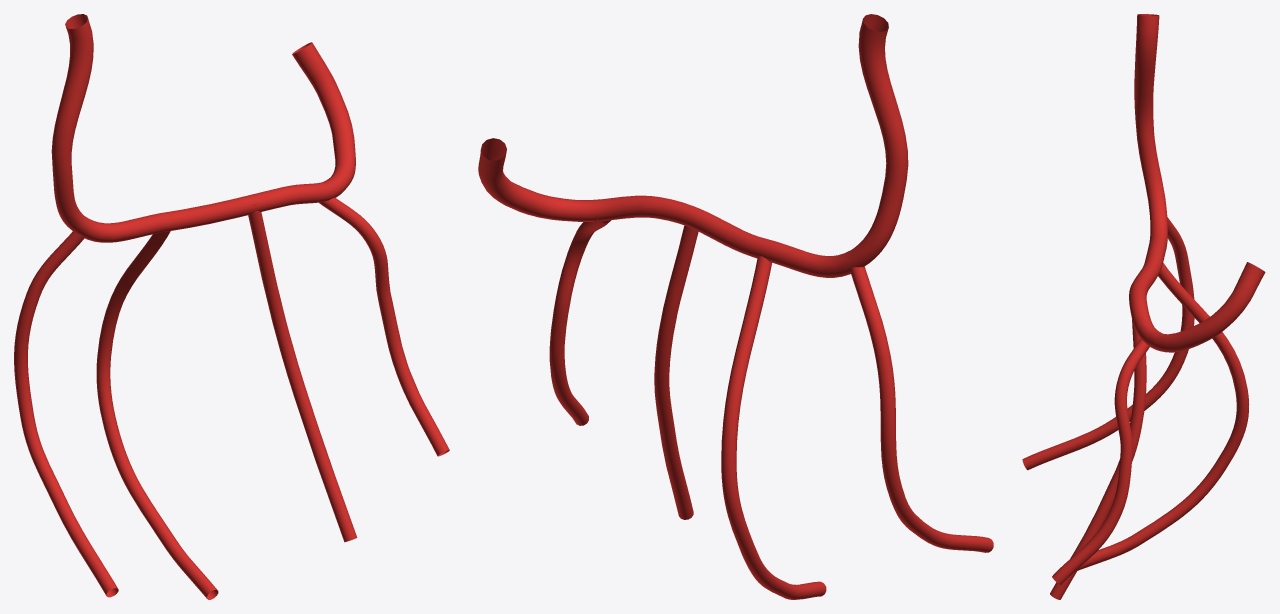
The model's file is circulatorio-deep-palmar-arch-l.glb.
3 views of the same model, side by side, from view 1: azimuth 30°, elevation 25°; view 2: azimuth 150°, elevation 25°; view 3: azimuth 270°, elevation 25° (orthographic). The views are drawn at different scales.
Parts seen in each view (by area): view 1: Palmar metacarpal arteries.l, Deep palmar arch.l; view 2: Palmar metacarpal arteries.l, Deep palmar arch.l; view 3: Palmar metacarpal arteries.l, Deep palmar arch.l.
Part boxes in pixels (left/top/right/bottom): Palmar metacarpal arteries.l: left=14, top=197, right=449, bottom=599; Deep palmar arch.l: left=51, top=14, right=355, bottom=242; Palmar metacarpal arteries.l: left=549, top=215, right=993, bottom=599; Deep palmar arch.l: left=478, top=14, right=908, bottom=277; Palmar metacarpal arteries.l: left=1022, top=217, right=1249, bottom=599; Deep palmar arch.l: left=1129, top=14, right=1265, bottom=352.
Size of the model in its own units: 0.0421 by 0.064 by 0.0272.
